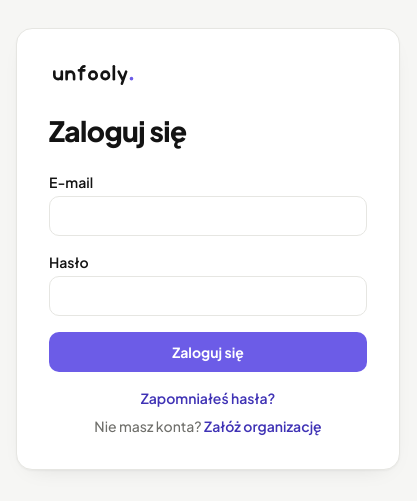
Test: LoginPage › blokuje wysyłkę przy niepoprawnym formacie e-mail
In the field labelled "E-mail": (208, 216) [49,196,367,236], type "nie-email"
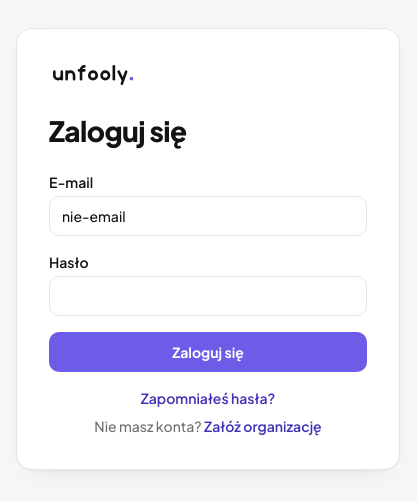
In the password field labelled "Hasło": (208, 296) [49,276,367,316], type "haslo123"
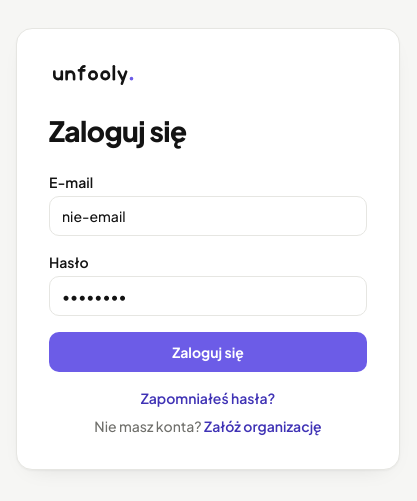
Click the button "Zaloguj się": click(208, 352) [49,332,367,372]
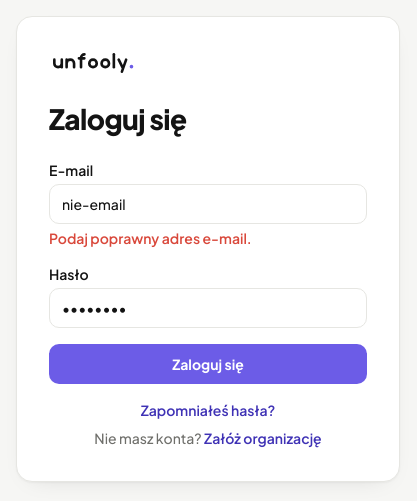
Check: the text "Podaj poprawny adres e-mail." is shown, box [49,229,252,247]
